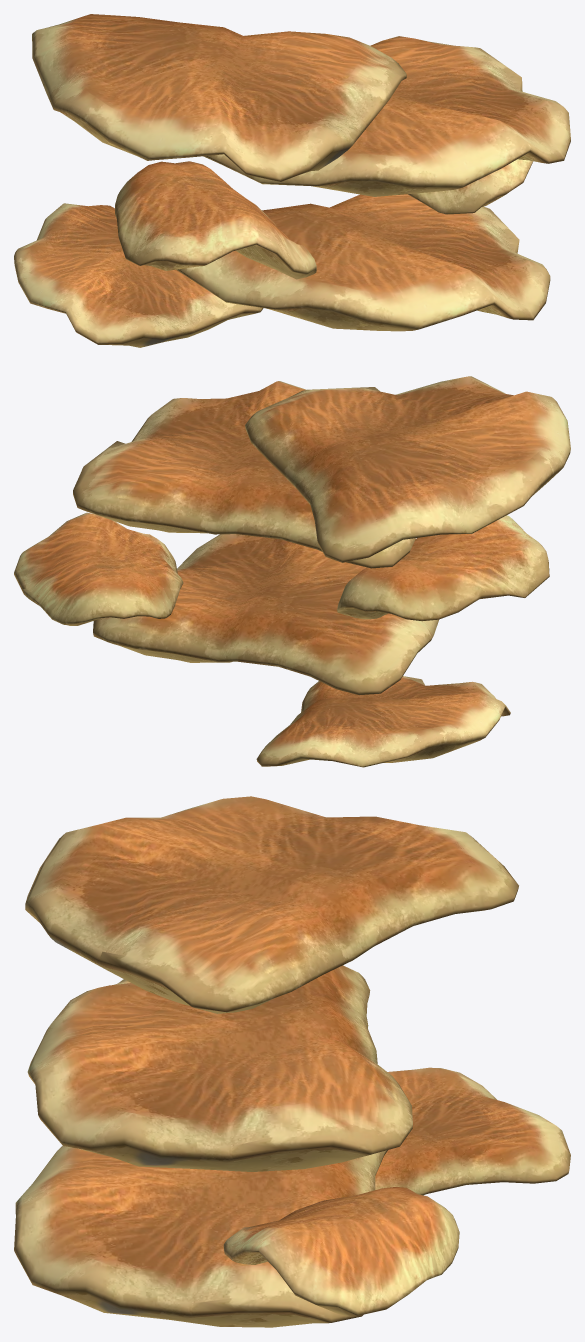
Rendered from Mushroom_Laetiporus.gltf.
The picture shows the model from 3 angles, top to bottom: view 1: azimuth 30°, elevation 25°; view 2: azimuth 150°, elevation 25°; view 3: azimuth 270°, elevation 25°; orthographic projection. The views are drawn at different scales.
Visible parts, largest first — view 1: Mushroom_Laetiporus; view 2: Mushroom_Laetiporus; view 3: Mushroom_Laetiporus.
Part boxes in pixels (<box>): Mushroom_Laetiporus: <box>14,14,570,347</box>; Mushroom_Laetiporus: <box>14,376,570,767</box>; Mushroom_Laetiporus: <box>14,796,570,1327</box>.
Bounding box in the file's own units: 1.37 × 0.767 × 1.1.
Materials: 1 (1 with a texture image).
